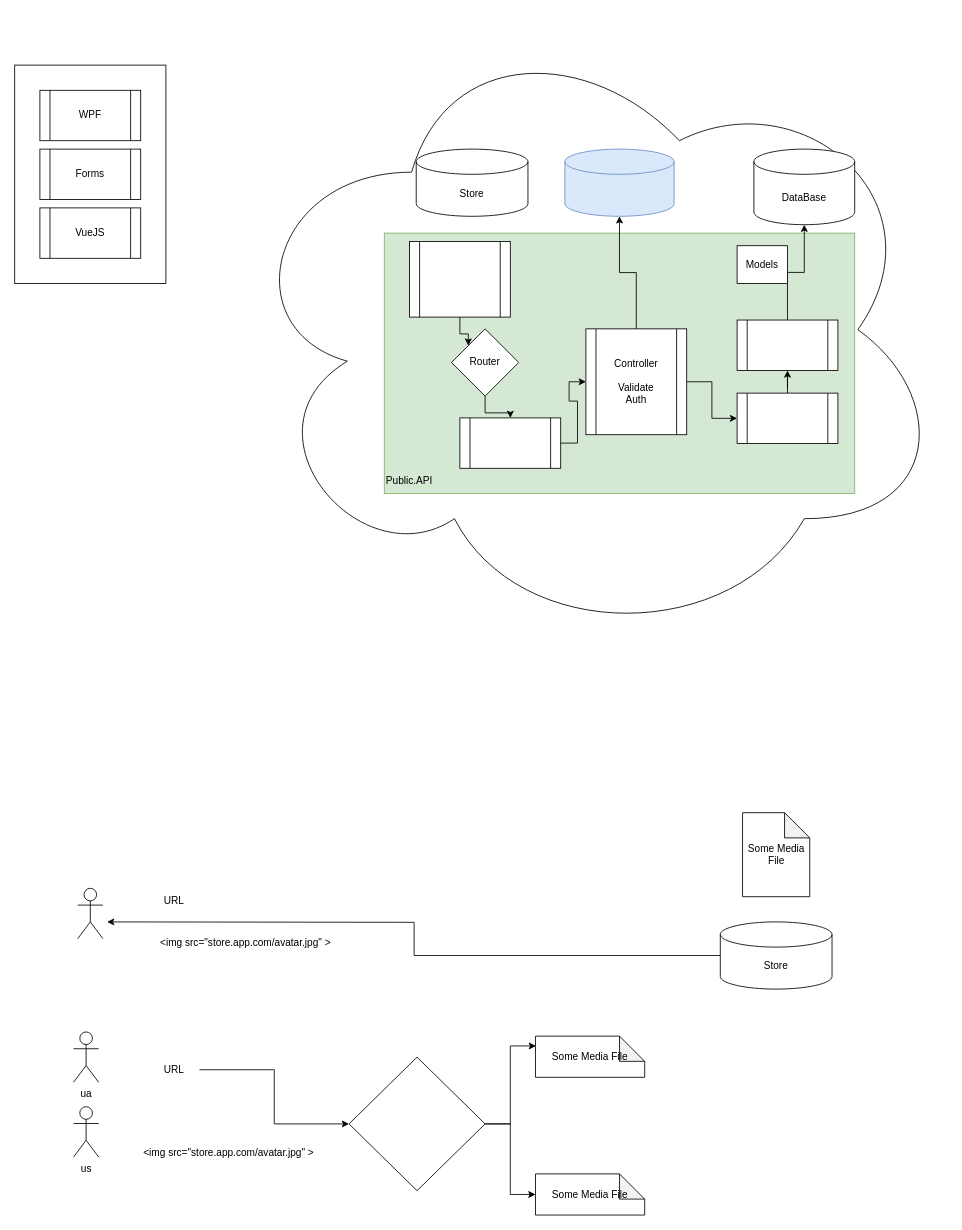
Image size: 962x1230. Some labels were removed from this diagram. Here are the shapes that lost their labels. From the top down, the box of each, then its label:
(564, 148, 674, 216): Redis
(409, 241, 510, 317): Http Socket :80 :443 WebServer
(736, 319, 838, 370): Repository
(736, 392, 838, 444): Service
(459, 417, 561, 468): MiddleWare
(77, 887, 103, 939): Actor
(348, 1056, 485, 1191): Content Delivery Netvork
